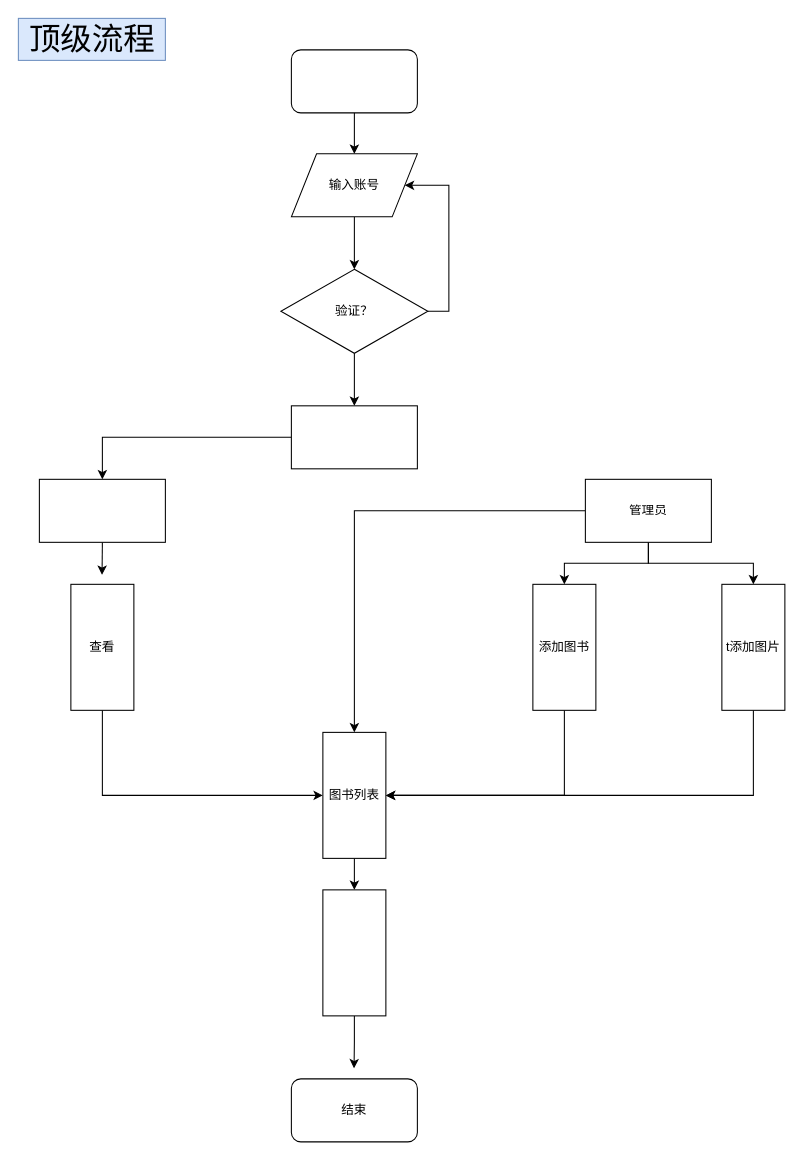
This 803x1160 diagram has some shape labels left out. Here are the shapes that lost their labels. From the top down, the centre of each, then its label:
At pixel 353 81: "开始".
At pixel 353 437: "用户级别".
At pixel 101 510: "用户".
At pixel 354 952: "详细信息".
